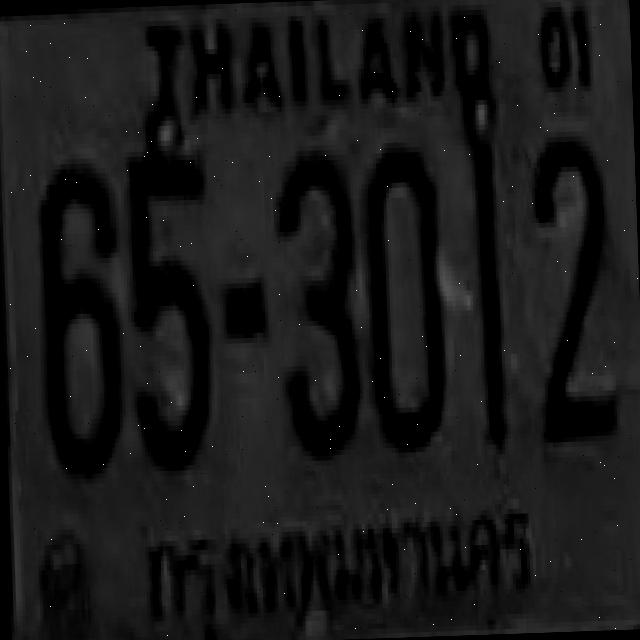0: (360, 141, 445, 448)
1: (462, 129, 506, 445)
2: (530, 130, 614, 437)
3: (272, 146, 358, 454)
5: (123, 144, 212, 467)
6: (33, 157, 121, 475)
Bangkok: (138, 503, 553, 640)
